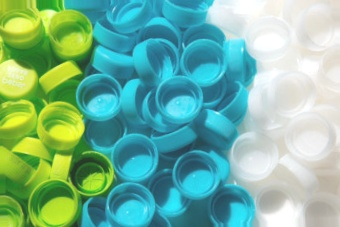plastic: (7, 11, 73, 204)
